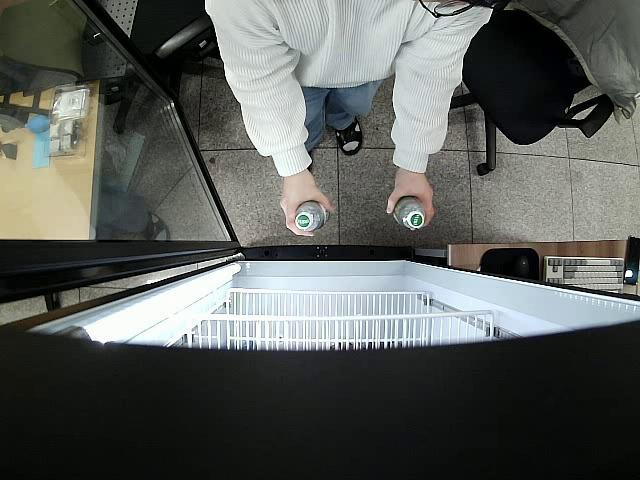18_trevi: (294, 199, 331, 234), (394, 198, 427, 231)
